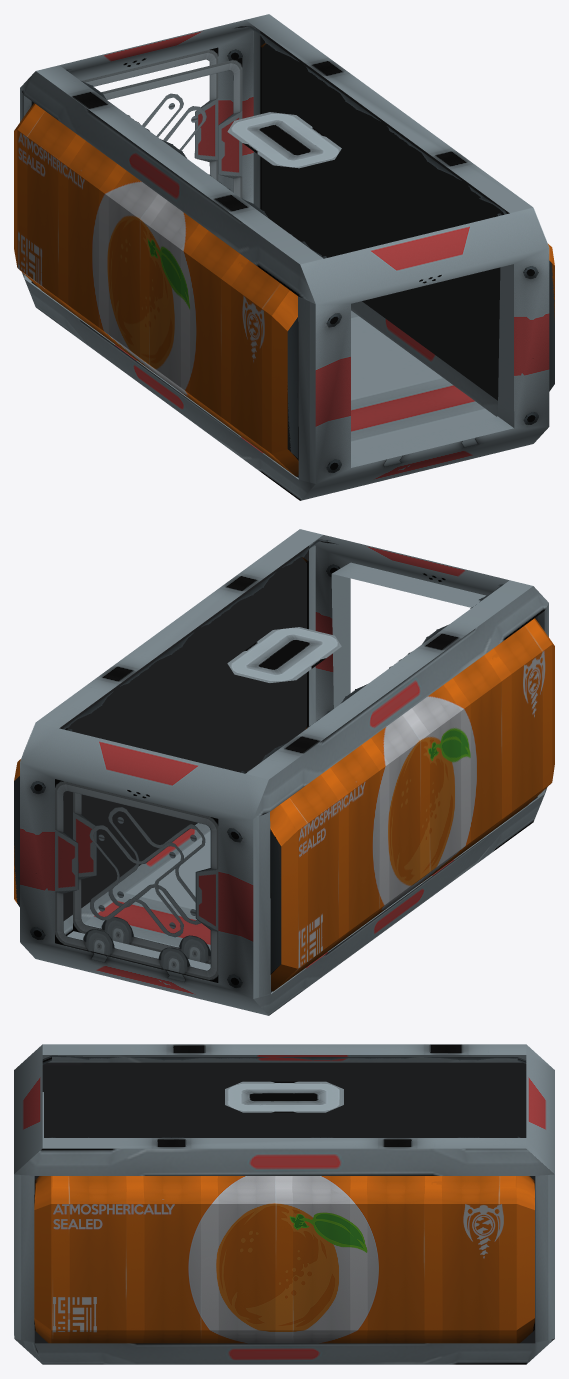
The model's file is env_building_container_empty_lod2.fbx.
The picture shows the model from 3 angles, top to bottom: view 1: azimuth 30°, elevation 25°; view 2: azimuth 150°, elevation 25°; view 3: azimuth 270°, elevation 25°; orthographic projection. The views are drawn at different scales.
Parts seen in each view (by area): view 1: lod4Roof:Mesh1; view 2: lod4Roof:Mesh1; view 3: lod4Roof:Mesh1.
Part boxes in pixels (x1,y1,x2,y2): lod4Roof:Mesh1: (14, 14, 554, 500); lod4Roof:Mesh1: (14, 529, 554, 1015); lod4Roof:Mesh1: (14, 1044, 554, 1364).
Bounding box in the file's own units: 19.98 × 16.08 × 36.48.
